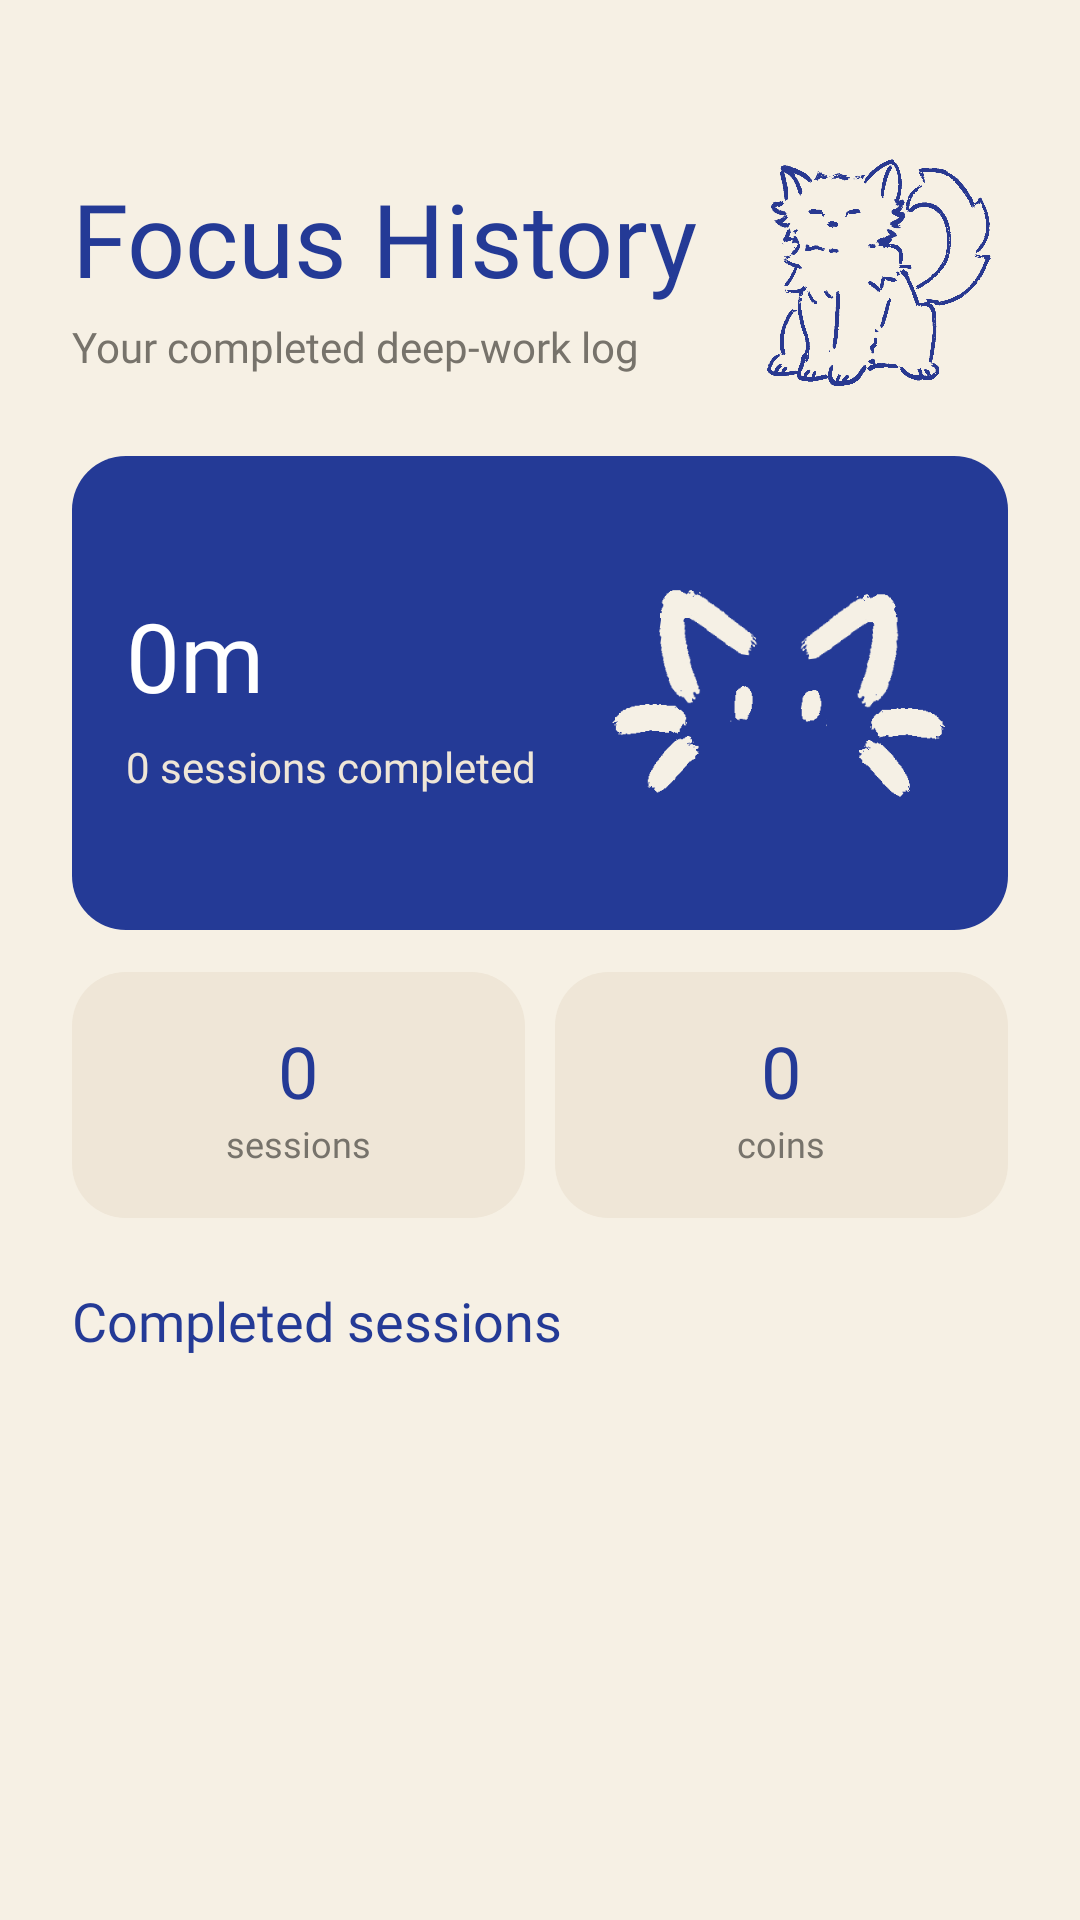

Icon bounding boxes for this 1080*1920 phone screenshot, format [left=x1, top=y1, right=x2, bottom=y2]:
happy cat fit: [left=767, top=159, right=991, bottom=386]
